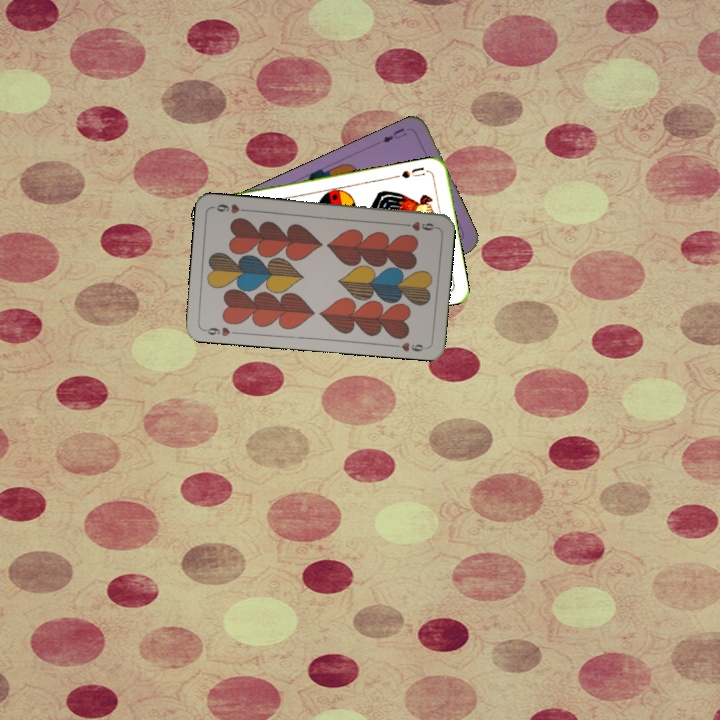EU: (378, 124, 409, 145)
H9: (200, 323, 241, 339), (398, 217, 438, 233)
SU: (397, 163, 427, 181)
